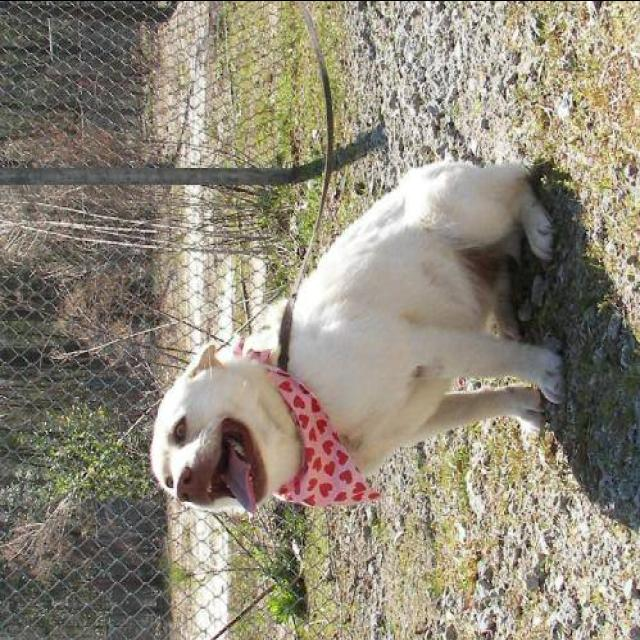dog: (133, 120, 562, 540)
